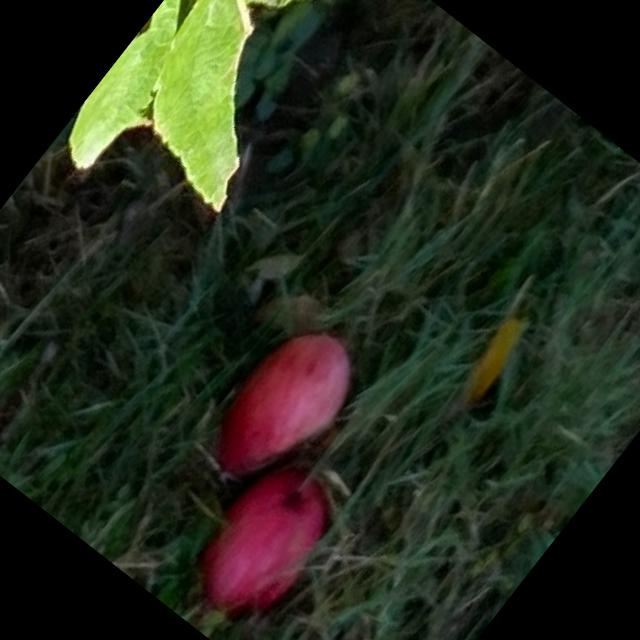Apples: (199, 314, 369, 496), (180, 460, 342, 635)
